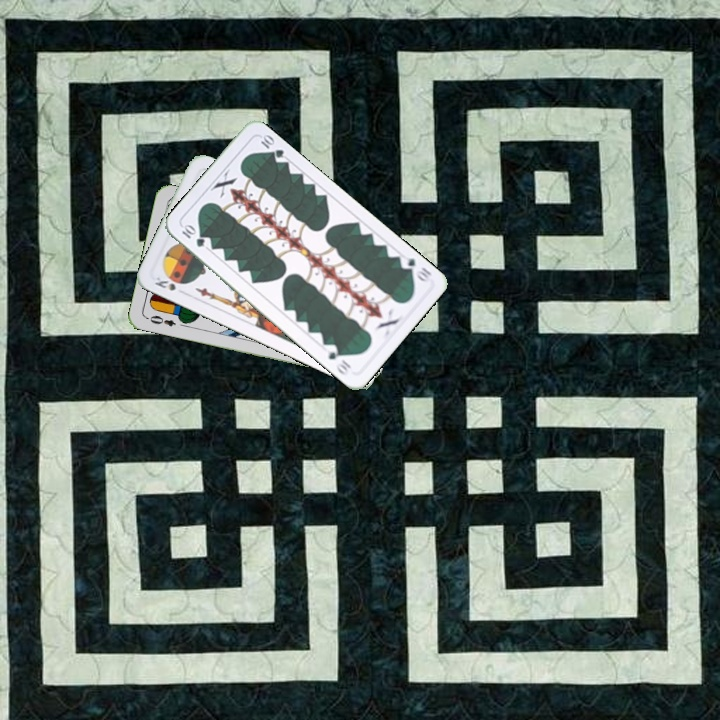EO: (142, 311, 178, 329)
G10: (396, 253, 434, 286), (178, 221, 207, 250)
SK: (151, 273, 178, 293)
